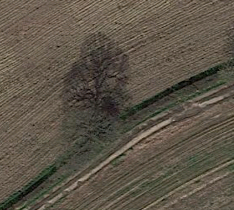tree: (52, 93, 142, 182)
